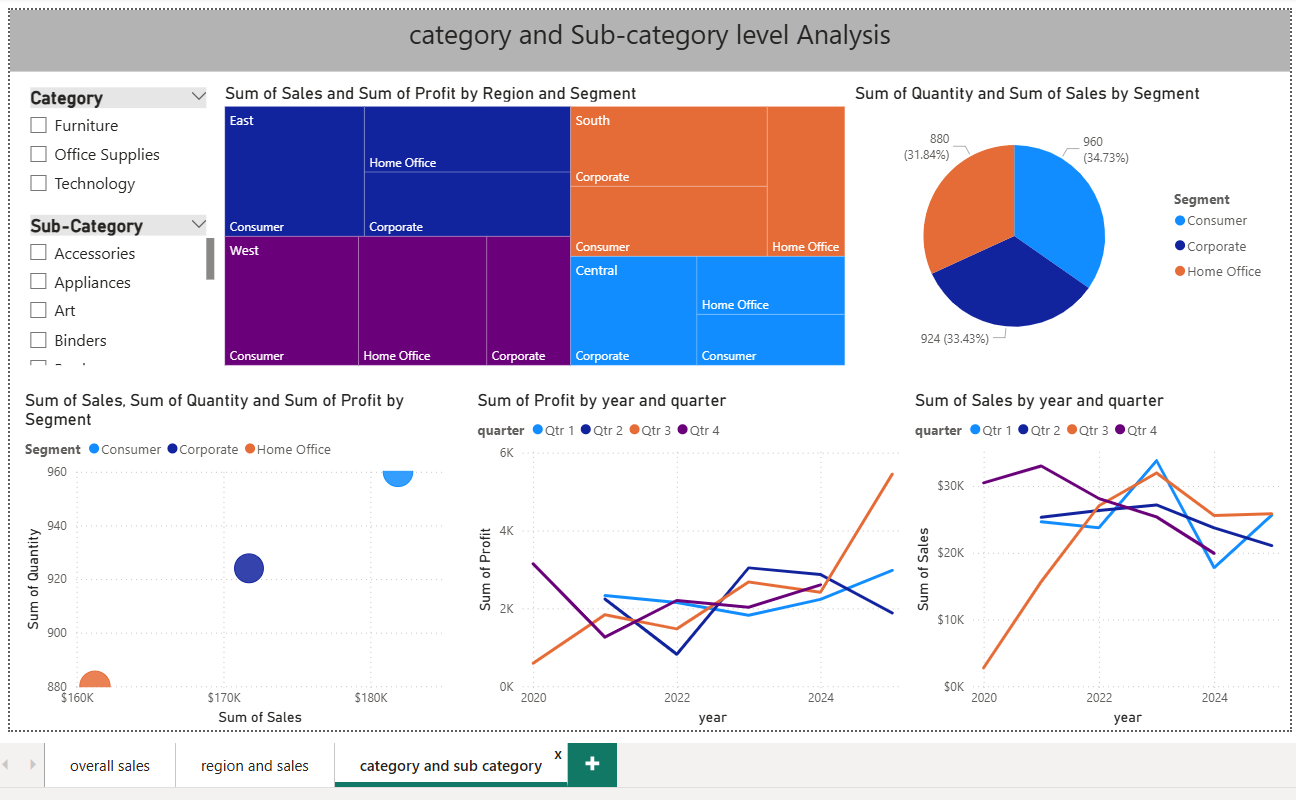

The dashboard page shown, as its layout file describes it:
{"tool":"powerbi","page":{"name":"category and sub category","canvas":[1280,720],"ordinal":2},"visuals":[{"type":"textbox","box":[0,0,1280,61.7],"z":0},{"type":"slicer","fields":{"Values":["store.Category"]},"box":[8,72,202,152],"z":1},{"type":"slicer","fields":{"Values":["store.Sub-Category"]},"box":[8,200,202,160],"z":2},{"type":"treemap","fields":{"Group":["store.Region"],"Details":["store.Segment"],"Values":["Sum(store.Sales)"]},"box":[210,72,630,288],"z":3},{"type":"pieChart","fields":{"Category":["store.Segment"],"Y":["Sum(store.Quantity)"]},"box":[840,72,426,288],"z":4},{"type":"scatterChart","fields":{"Series":["store.Segment"],"X":["Sum(store.Sales)"],"Y":["Sum(store.Quantity)"],"Size":["Sum(store.Profit)"]},"box":[10,380,446,340],"z":5},{"type":"lineChart","fields":{"Category":["store.year"],"Series":["store.quarter"],"Y":["Sum(store.Profit)"]},"box":[462,380,438,340],"z":6},{"type":"lineChart","fields":{"Series":["store.quarter"],"Y":["Sum(store.Sales)"],"Category":["store.year"]},"box":[900,380,380,340],"z":7}]}

Visuals, with their boxes on the page's 1280x720 design canvas (x1, y1, x2, y2). These are canvas units, not pixel positions in the 1296x800 screenshot, which may show the page scaled, cropped or inside an application window:
textbox: left=0, top=0, right=1280, bottom=62
slicer - store.Category: left=8, top=72, right=210, bottom=224
slicer - store.Sub-Category: left=8, top=200, right=210, bottom=360
treemap - store.Region x store.Segment: left=210, top=72, right=840, bottom=360
pieChart - store.Segment x Sum(store.Quantity): left=840, top=72, right=1266, bottom=360
scatterChart - store.Segment x Sum(store.Sales): left=10, top=380, right=456, bottom=720
lineChart - store.year x store.quarter: left=462, top=380, right=900, bottom=720
lineChart - store.quarter x Sum(store.Sales): left=900, top=380, right=1280, bottom=720
